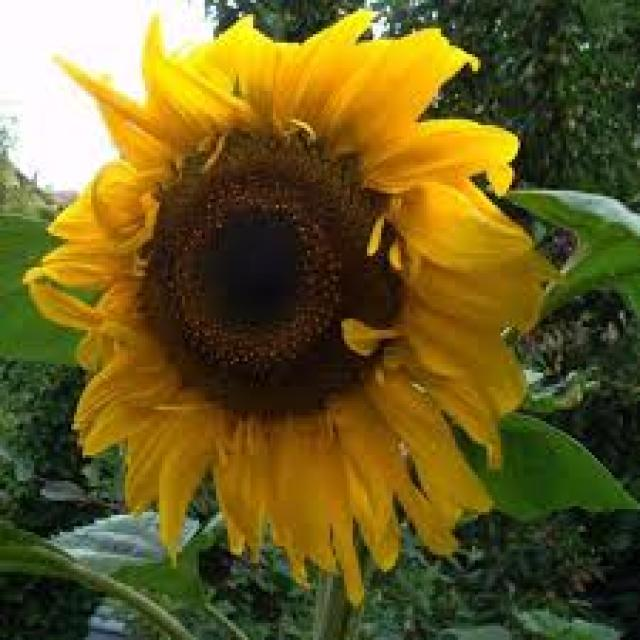sunflower: (21, 0, 570, 607)
